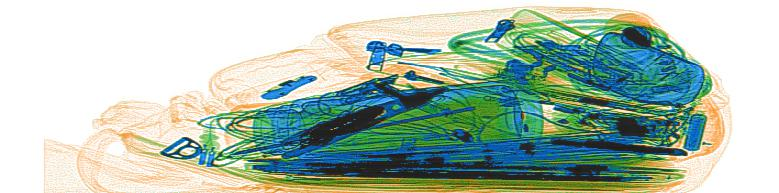battery: (683, 112, 707, 150)
